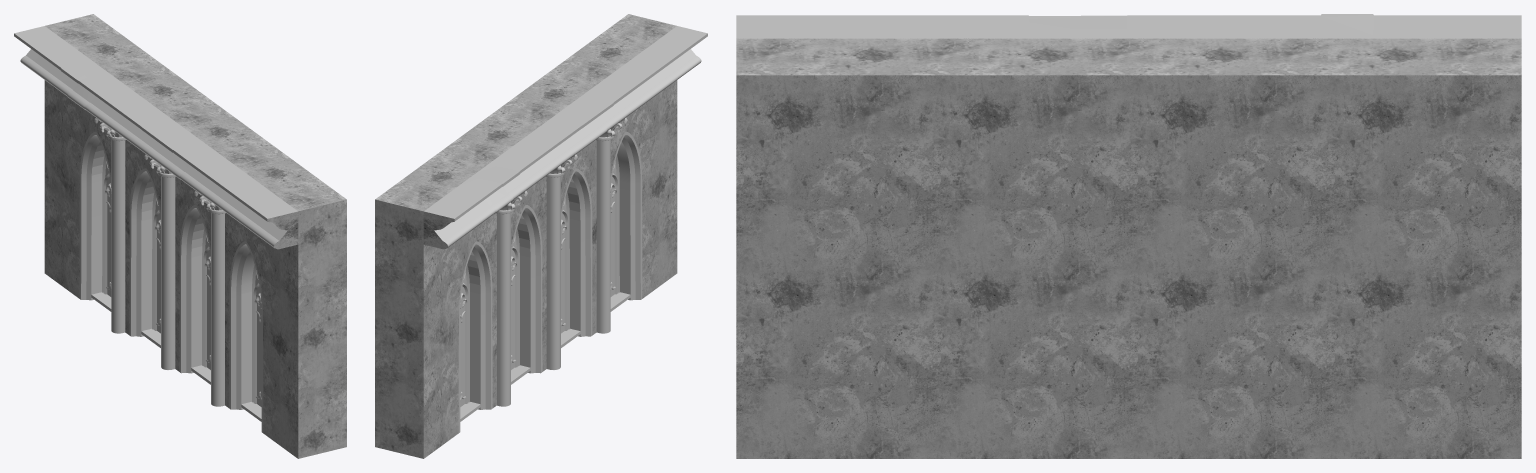
File: SM_TowerWall_02a.fbx
3 views of the same model, side by side, from view 1: azimuth 30°, elevation 25°; view 2: azimuth 150°, elevation 25°; view 3: azimuth 270°, elevation 25° (orthographic). The views are drawn at different scales.
Visible parts, largest first — view 1: SM_TowerWall_02a_LOD0; view 2: SM_TowerWall_02a_LOD0; view 3: SM_TowerWall_02a_LOD0.
Boxes of the visible parts, bbox=[...] form: SM_TowerWall_02a_LOD0: bbox=[14, 14, 346, 458]; SM_TowerWall_02a_LOD0: bbox=[375, 14, 707, 458]; SM_TowerWall_02a_LOD0: bbox=[736, 14, 1521, 458].
Size of the model in its own units: 330 by 1800 by 972.
